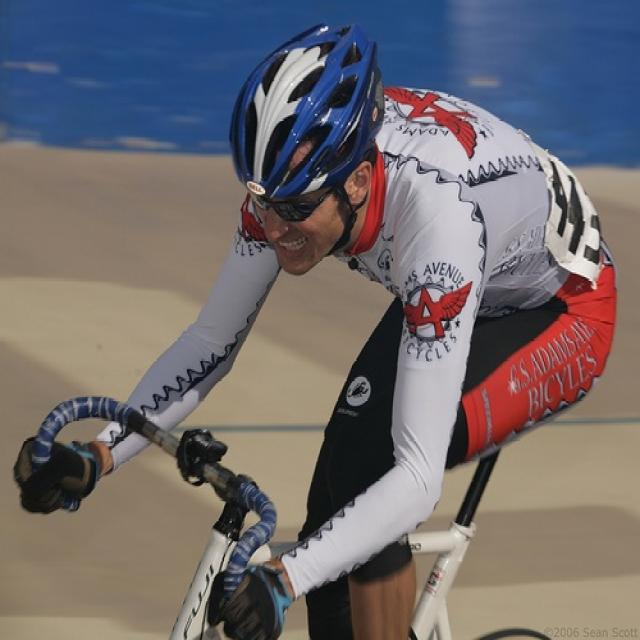bicycle: (15, 374, 575, 638)
